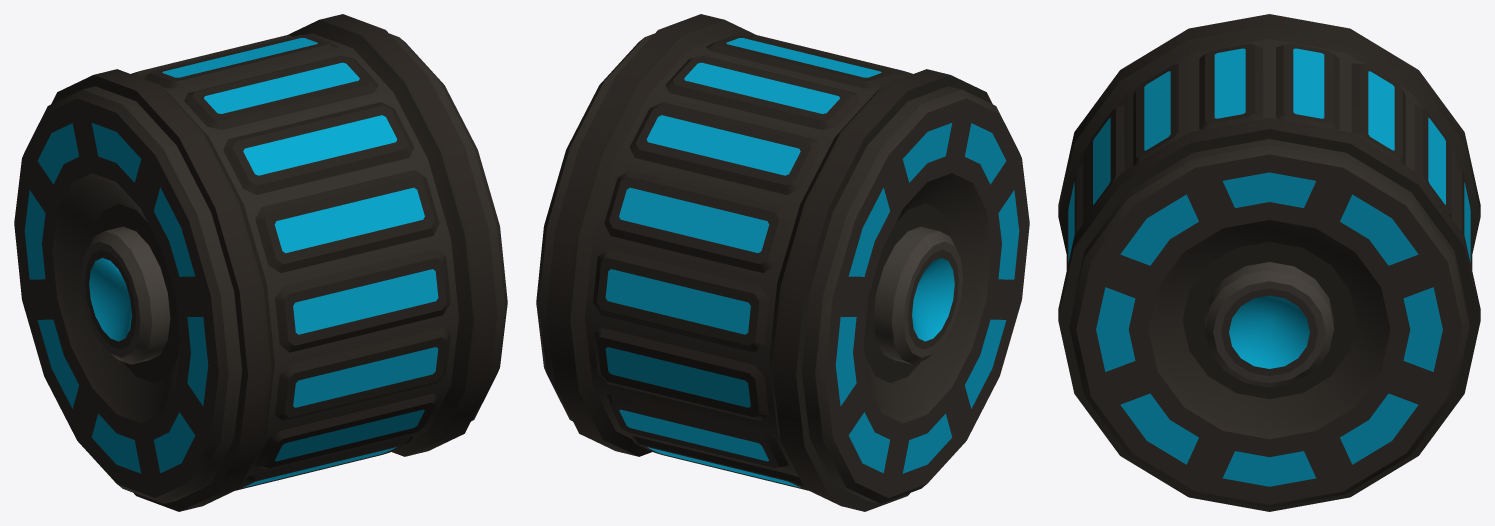
The model's file is Shotgun6_Magazine.fbx.
3 renders of one model, left to right at view 1: azimuth 30°, elevation 25°; view 2: azimuth 150°, elevation 25°; view 3: azimuth 270°, elevation 25°, orthographic. The views are drawn at different scales.
Parts seen in each view (by area): view 1: Shotgun6_Magazine; view 2: Shotgun6_Magazine; view 3: Shotgun6_Magazine.
Boxes of the visible parts, x1,y1,x2,y2 form: Shotgun6_Magazine: (14,14,507,511); Shotgun6_Magazine: (536,14,1029,511); Shotgun6_Magazine: (1058,14,1480,511).
Size of the model in its own units: 10.43 by 13.43 by 13.43.
